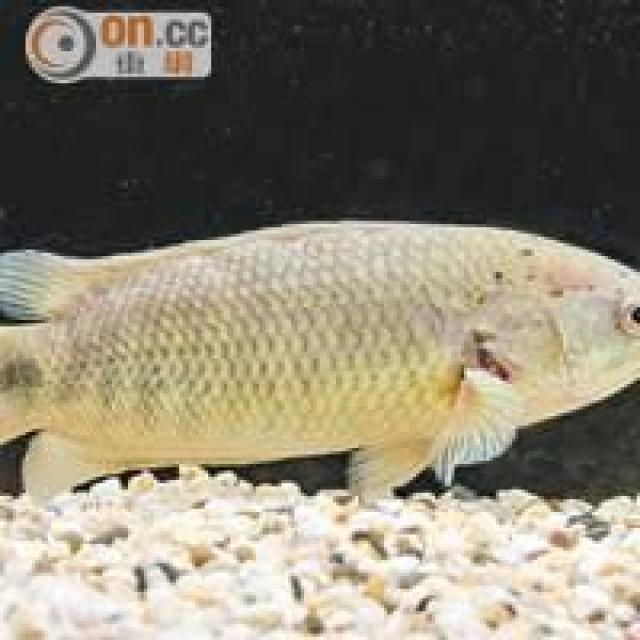Climbing-Perch: (0, 206, 640, 518)
